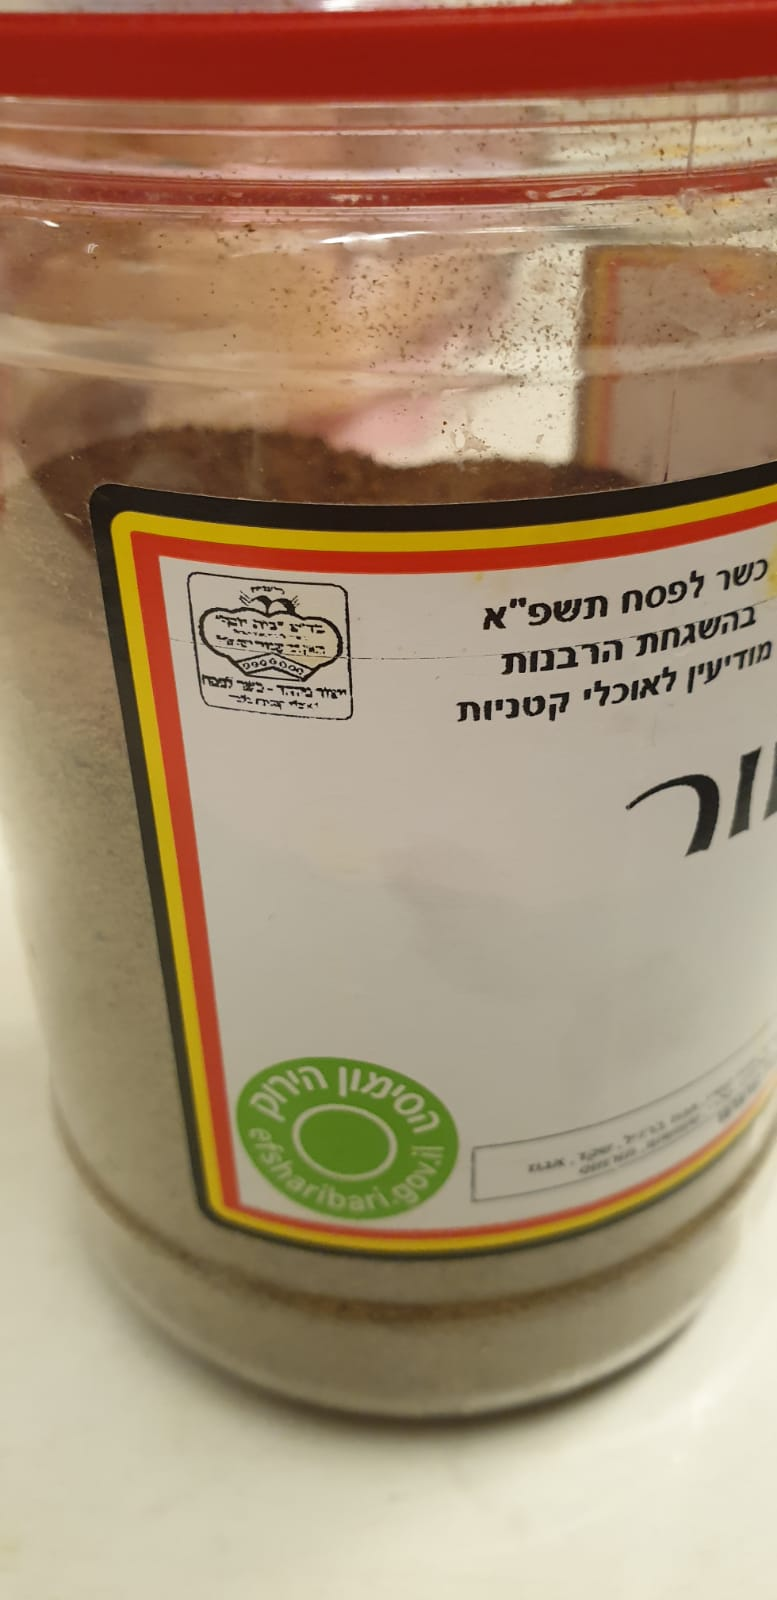green: (230, 1055, 464, 1223)
